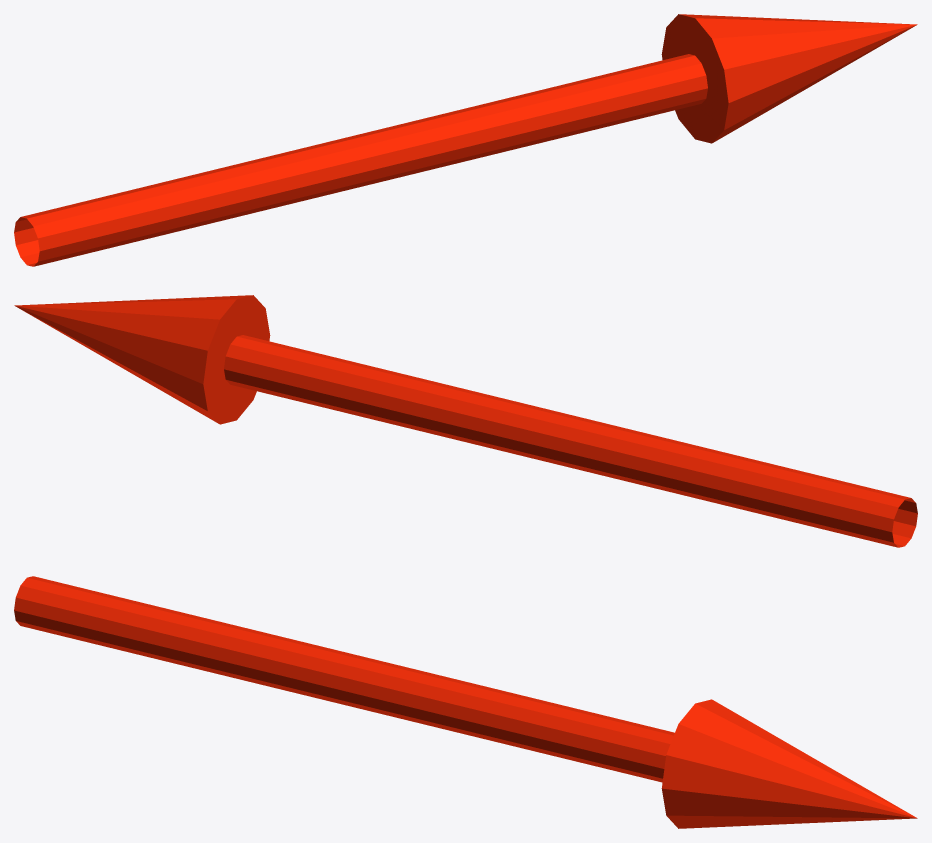
File: TranslateX.obj
The picture shows the model from 3 angles, top to bottom: view 1: azimuth 30°, elevation 25°; view 2: azimuth 150°, elevation 25°; view 3: azimuth 330°, elevation 25°; orthographic projection.
Visible parts, largest first — view 1: translate_x; view 2: translate_x; view 3: translate_x.
Boxes of the visible parts, <box> form: translate_x: <box>14,14,917,266</box>; translate_x: <box>14,295,917,547</box>; translate_x: <box>14,576,917,828</box>.
Bounding box in the file's own units: 100 × 13 × 13.
Materials: 1 (1 with a texture image).
